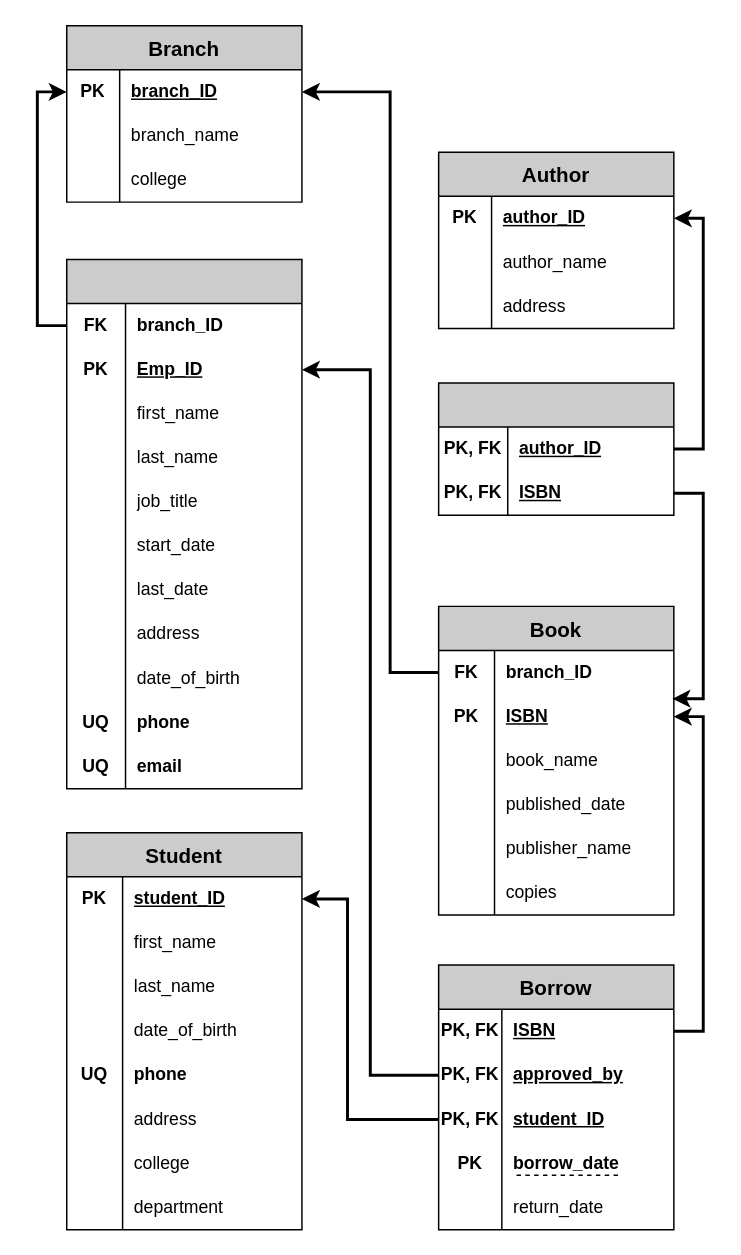
This 741x1255 diagram has some shape labels left out. The shapes that lost their labels are listed below. From the top down, each one's box as (x1, y1, x2, y2) in pixels, then its label:
(437, 381, 674, 515): Published_by
(65, 258, 302, 789): Employee
